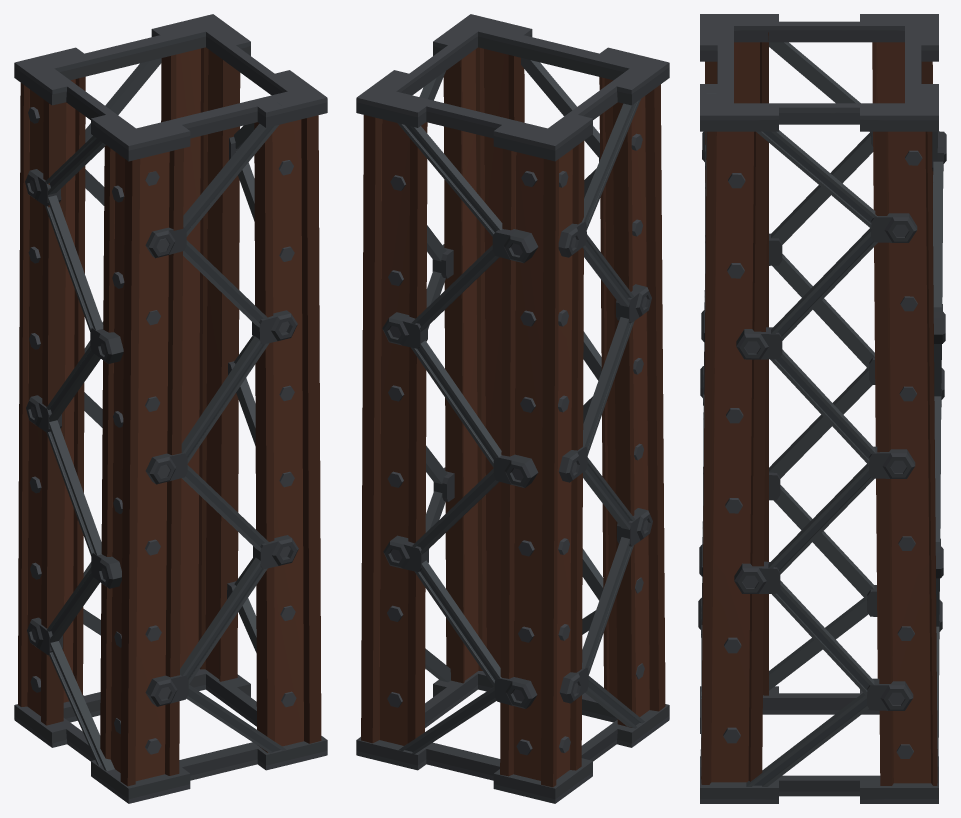
File: SM_Bld_Metal_Pipe_Frame_02.fbx
3 renders of one model, left to right at view 1: azimuth 30°, elevation 25°; view 2: azimuth 150°, elevation 25°; view 3: azimuth 270°, elevation 25°, orthographic. The views are drawn at different scales.
Parts seen in each view (by area): view 1: SM_Bld_Metal_Pipe_Frame_02; view 2: SM_Bld_Metal_Pipe_Frame_02; view 3: SM_Bld_Metal_Pipe_Frame_02.
Part boxes in pixels (box(x1,y1,x2,y2)): SM_Bld_Metal_Pipe_Frame_02: box(14, 14, 327, 803); SM_Bld_Metal_Pipe_Frame_02: box(356, 14, 669, 803); SM_Bld_Metal_Pipe_Frame_02: box(698, 14, 946, 803).
Size of the model in its own units: 160 by 500 by 164.
